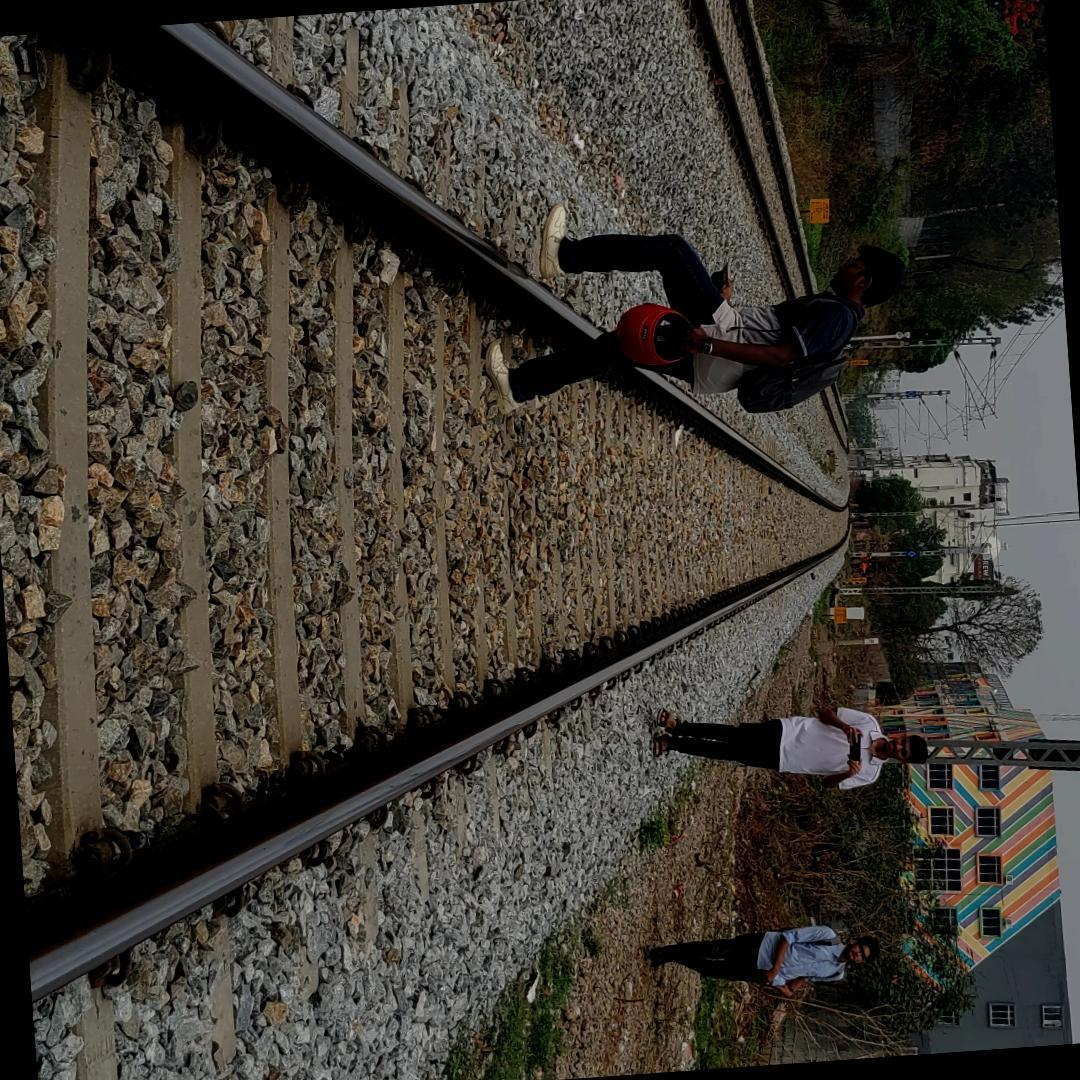standing: (477, 199, 932, 440), (641, 692, 938, 785), (636, 916, 885, 1013)
track: (0, 12, 855, 1080)
